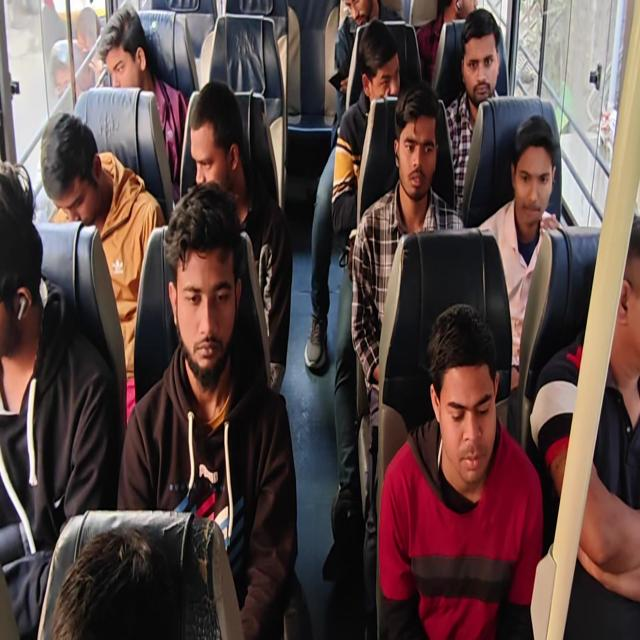person: (1, 2, 638, 638), (116, 180, 298, 638), (349, 81, 465, 635), (0, 158, 121, 637), (377, 302, 543, 638), (530, 212, 639, 638), (40, 111, 165, 425), (304, 18, 402, 371), (187, 79, 293, 395), (47, 511, 240, 639), (477, 113, 564, 390), (96, 4, 188, 202), (444, 8, 501, 214), (329, 0, 404, 146), (416, 0, 478, 87), (47, 7, 102, 102)
